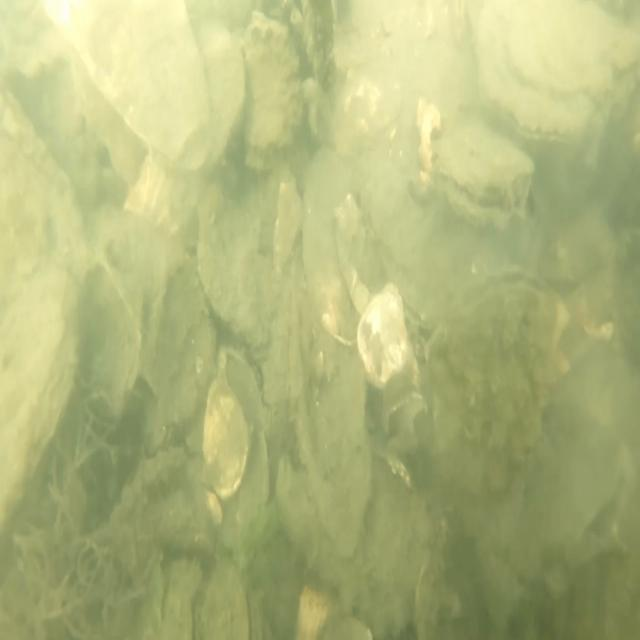Oyster-Closed: (0, 84, 86, 541), (467, 0, 640, 147), (237, 10, 305, 168)
Oyster-Indeterminate: (122, 20, 250, 244), (42, 0, 211, 168), (275, 458, 431, 634), (287, 276, 373, 550), (197, 186, 285, 354), (302, 144, 373, 345), (143, 239, 214, 422), (358, 280, 419, 407), (200, 381, 248, 495), (203, 556, 252, 640)
Oyster-Open: (425, 264, 561, 498), (437, 112, 533, 232)
